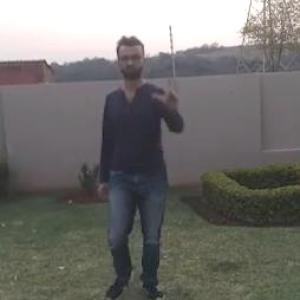land_hand: (150, 71, 181, 113)
